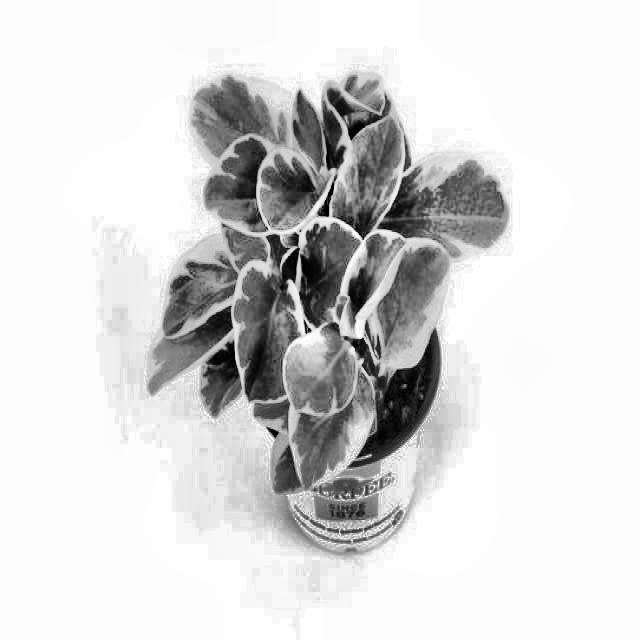plants: (176, 81, 468, 554)
